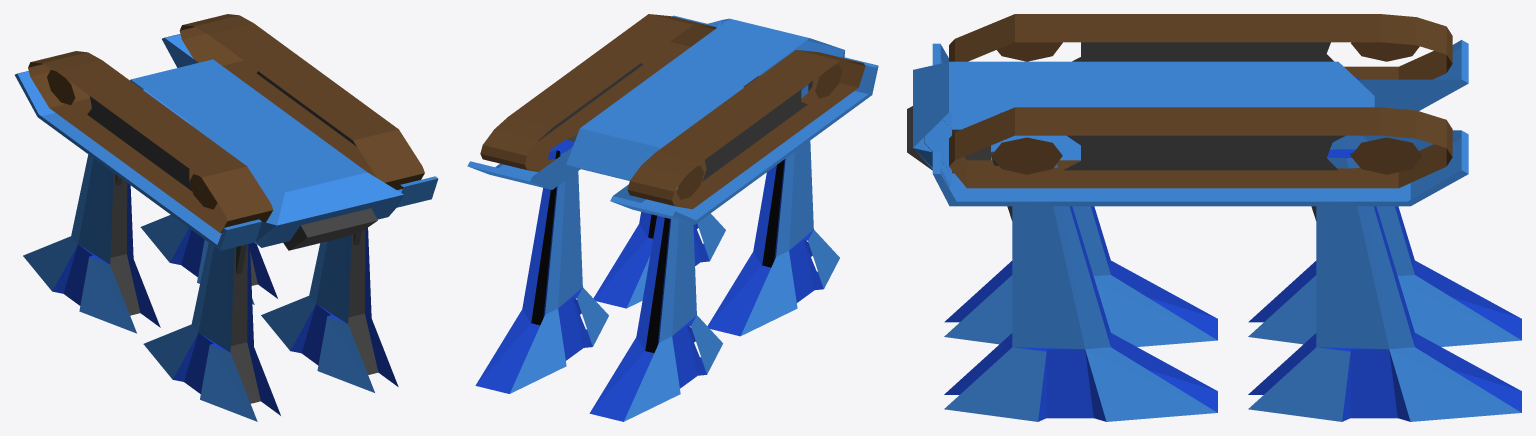
Rendered from Legs.FBX.
3 views of the same model, side by side, from view 1: azimuth 30°, elevation 25°; view 2: azimuth 150°, elevation 25°; view 3: azimuth 270°, elevation 25° (orthographic). The views are drawn at different scales.
Visible parts, largest first — view 1: VIFS017, VIFS018, VIFS002, VIFS014, VIFS006, VIFS019, VIFS001, VIFS003, VIFS005, VIFS013, VIFS007, VIFS015 (+2 smaller); view 2: VIFS017, VIFS018, VIFS010, VIFS014, VIFS002, VIFS009, VIFS013, VIFS001, VIFS005, VIFS019, VIFS012, VIFS016 (+2 smaller); view 3: VIFS017, VIFS018, VIFS010, VIFS006, VIFS019, VIFS002, VIFS014, VIFS009, VIFS005, VIFS013, VIFS001.
Part boxes in pixels (x1,y1,x2,y2): VIFS017: (28, 14, 424, 233); VIFS018: (15, 34, 438, 250); VIFS002: (143, 243, 257, 421); VIFS014: (23, 154, 136, 333); VIFS006: (261, 235, 374, 392); VIFS019: (87, 71, 377, 250); VIFS001: (173, 243, 280, 415); VIFS003: (230, 244, 260, 403); VIFS005: (290, 163, 398, 386); VIFS013: (52, 183, 160, 327); VIFS007: (348, 229, 378, 374); VIFS015: (110, 173, 140, 315); VIFS017: (480, 14, 865, 209); VIFS018: (467, 15, 878, 224); VIFS010: (510, 146, 608, 393); VIFS014: (624, 186, 722, 421); VIFS002: (741, 85, 839, 335); VIFS009: (475, 140, 592, 393); VIFS013: (589, 215, 706, 421); VIFS001: (707, 84, 823, 336); VIFS005: (593, 212, 709, 308); VIFS019: (538, 63, 807, 181); VIFS012: (531, 150, 559, 325); VIFS016: (645, 217, 669, 352); VIFS017: (949, 14, 1452, 188); VIFS018: (913, 40, 1468, 206); VIFS010: (1248, 157, 1521, 421); VIFS006: (944, 164, 1217, 421); VIFS019: (907, 42, 1344, 173); VIFS002: (944, 206, 1217, 346); VIFS014: (1248, 206, 1521, 346); VIFS009: (1248, 149, 1521, 421); VIFS005: (944, 206, 1217, 421); VIFS013: (1248, 77, 1521, 340); VIFS001: (944, 206, 1217, 340).
Size of the model in its own units: 7.2 by 7.5 by 14.36.
